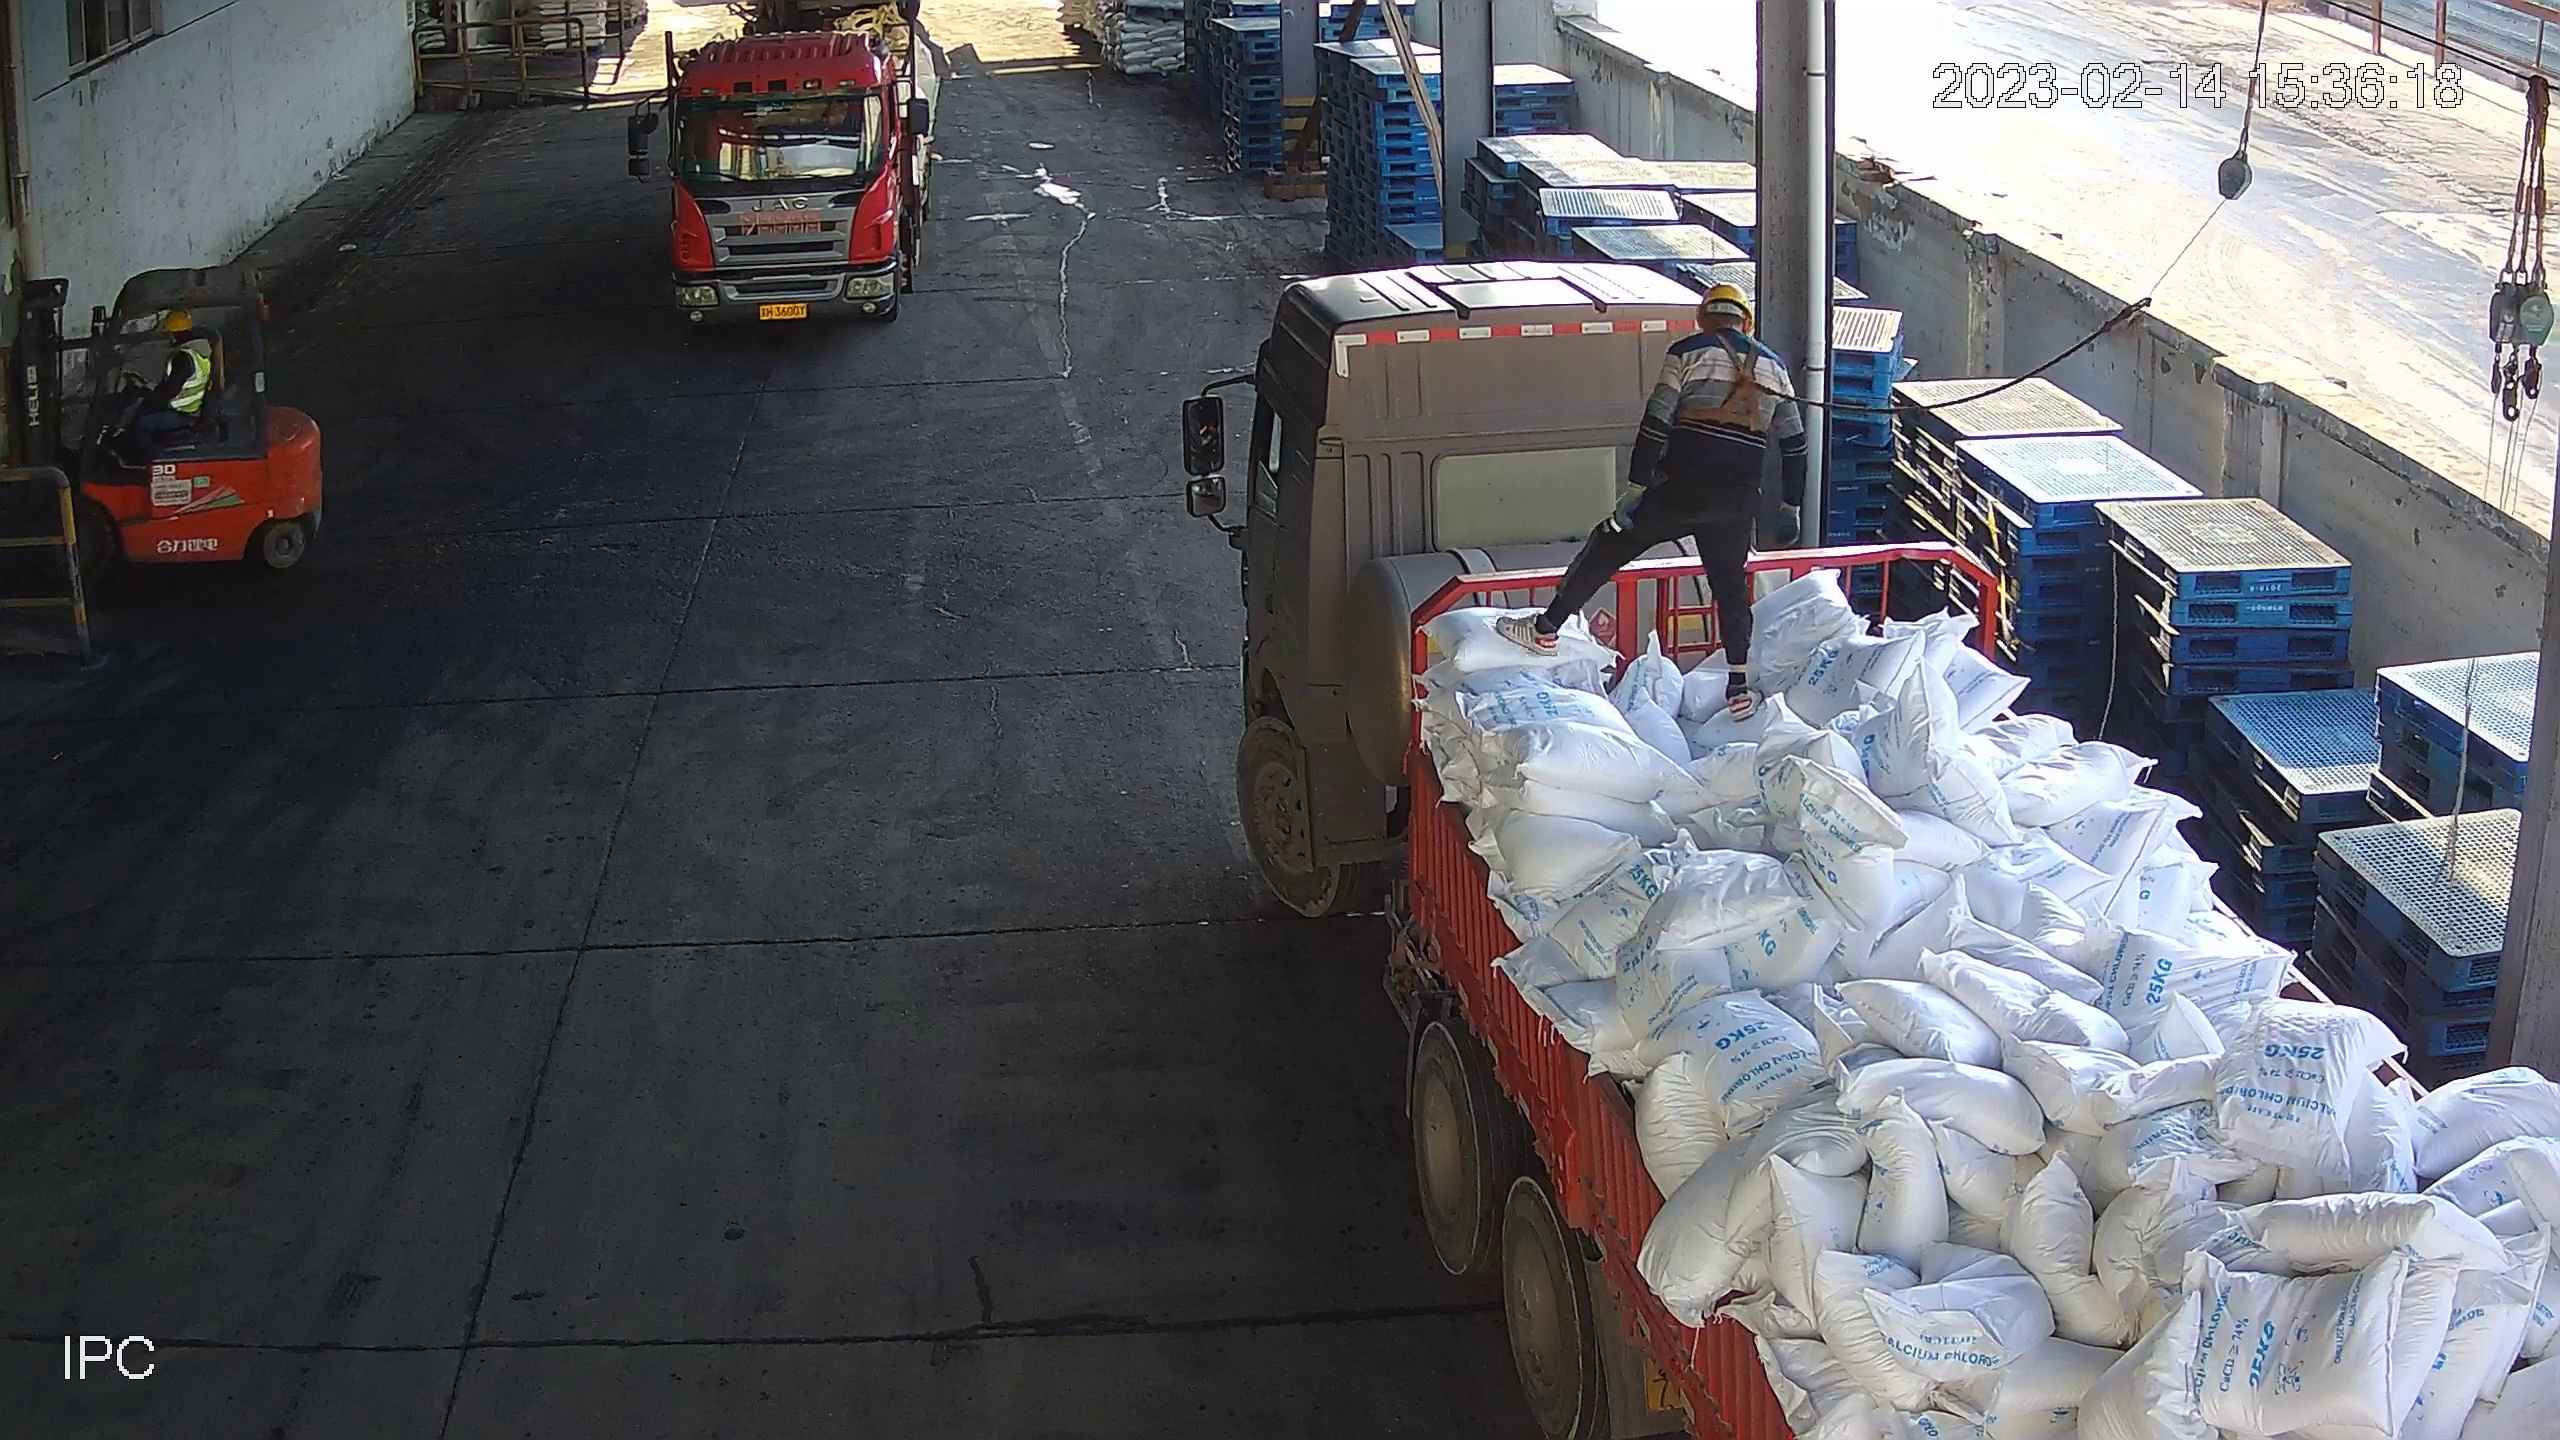belt: (1674, 329, 1774, 431)
head: (1652, 282, 1792, 400), (161, 310, 210, 380)
helmet: (1695, 282, 1754, 329), (161, 310, 193, 333)
people: (1499, 280, 1809, 715), (125, 310, 212, 445)
truck: (1182, 263, 2560, 1440), (623, 1, 939, 327)
